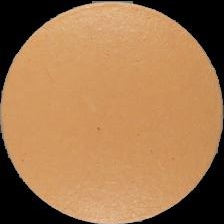43063-494: (0, 0, 224, 224)
